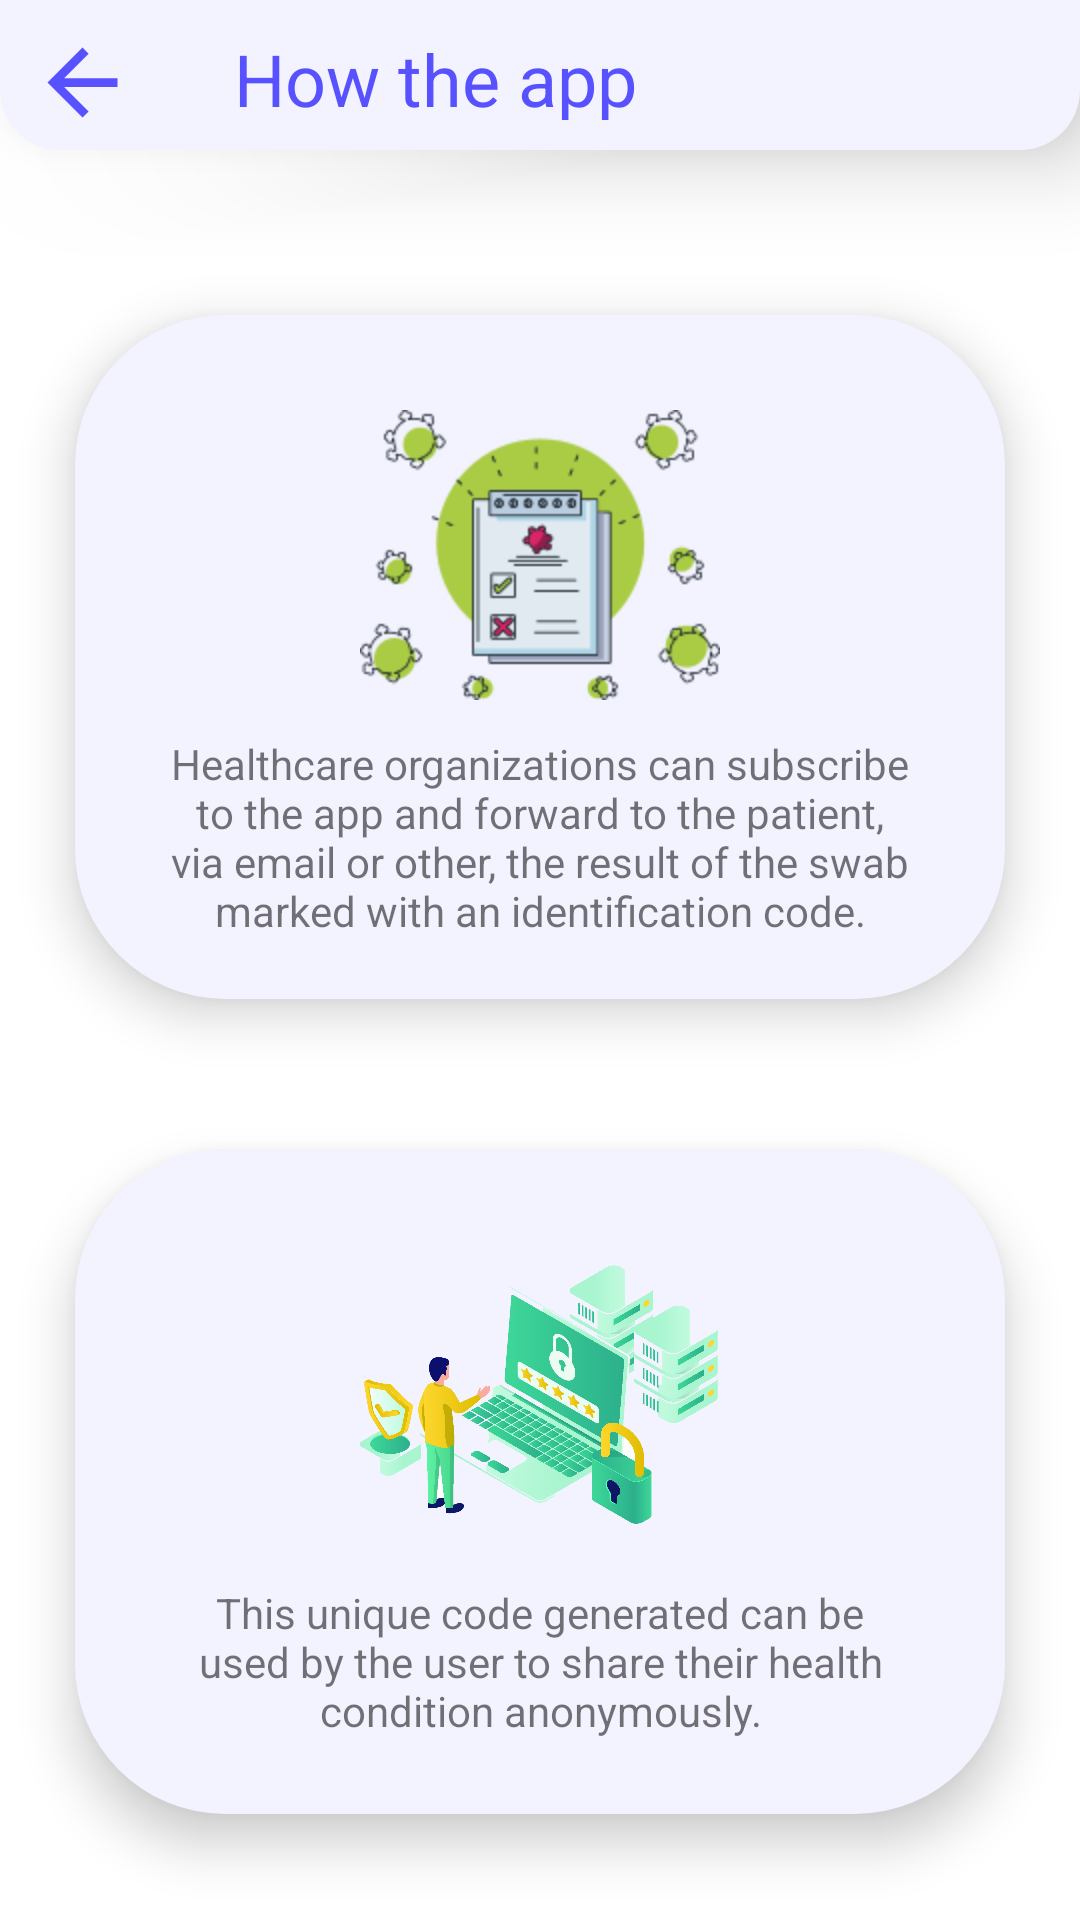

Where icons sit on this 1080w x 1920h app screen, as [x1,y1,x2,y2]:
code security: [360,1265,718,1524]
